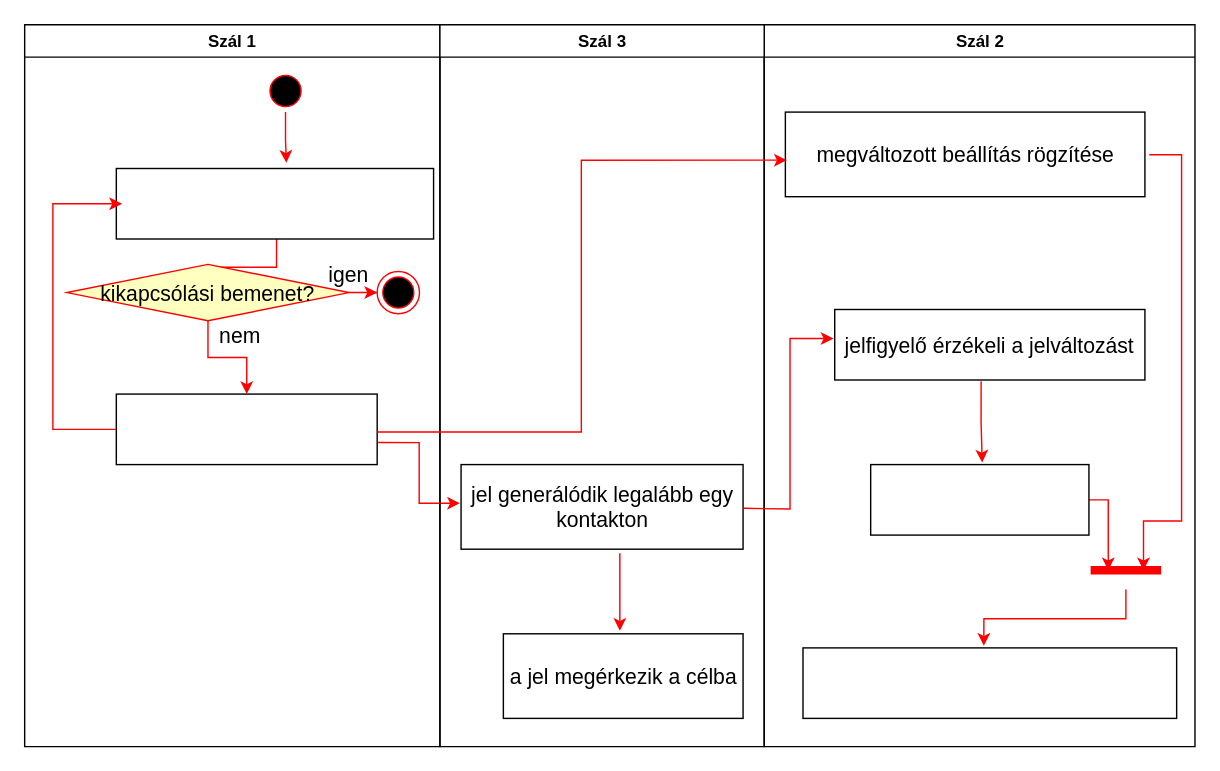
Image size: 1220x771. Some labels were removed from this diagram. The centre of each missing label's shape, as x and y in pixels:
"1 db beállítás megváltozik" goes at point 246,429.
"beállítás és jelbeli változás párosítása" goes at point 989,682.
"jelváltozás rögzítése" goes at point 979,499.
"várakozás, amíg nincs bemenet" goes at point 274,203.
